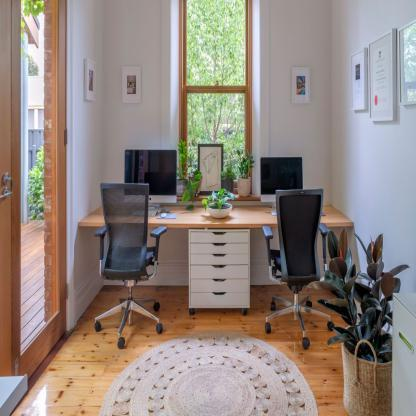chair: (89, 179, 177, 349), (255, 189, 339, 351)
light: (0, 0, 69, 379)
table: (78, 189, 350, 319), (387, 287, 416, 416)
